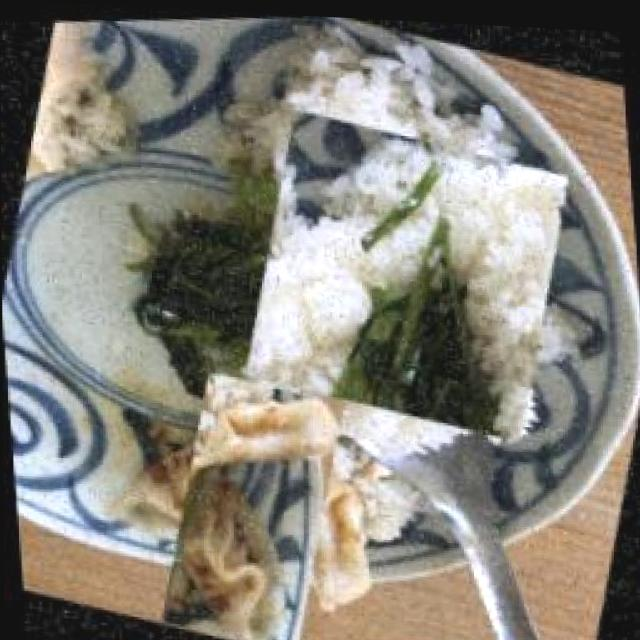fried_dumplings: (122, 375, 382, 640)
rice: (223, 82, 586, 460)
water_spinach: (136, 216, 337, 364)
